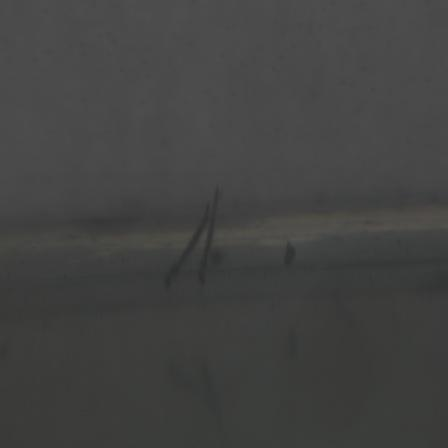Jentik-Nyamuk: (158, 180, 224, 294)
